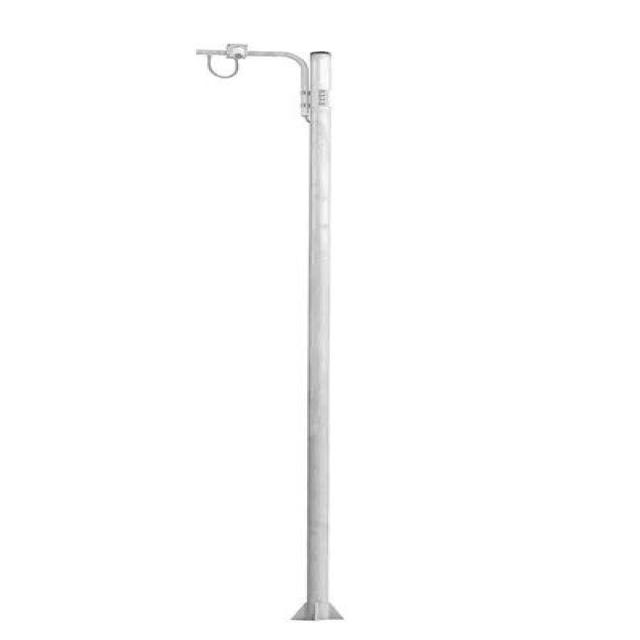Pole: (196, 44, 343, 621)
